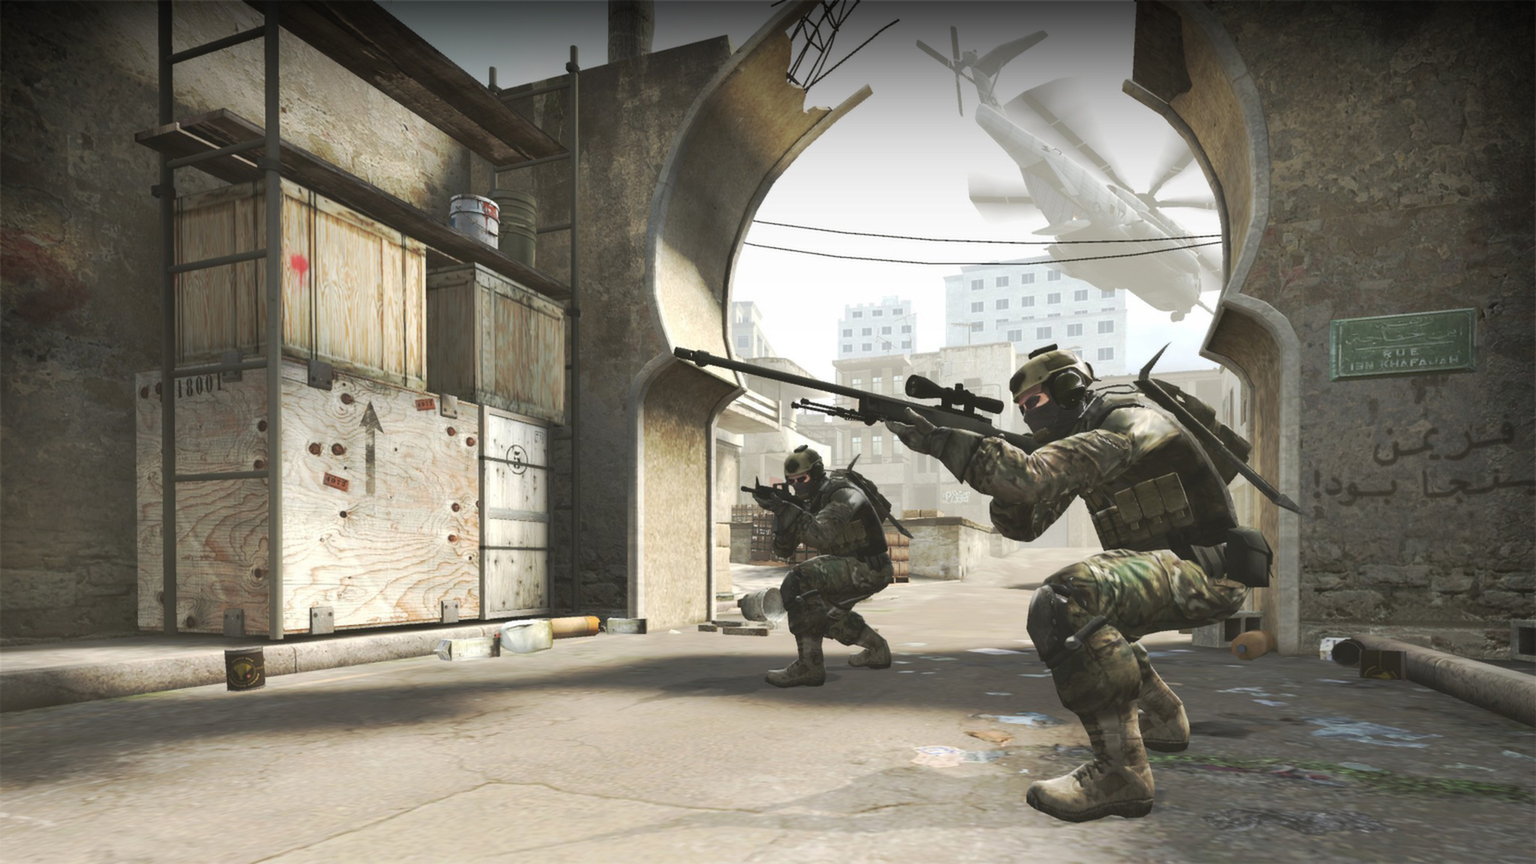c: (940, 335, 1244, 831), (748, 439, 894, 692)
ch: (1011, 345, 1106, 441), (781, 442, 836, 503)
